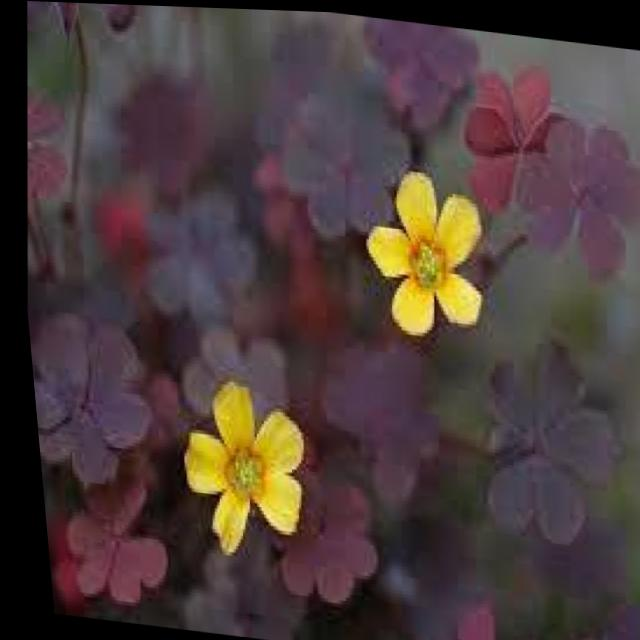Flower: (158, 372, 321, 562), (346, 157, 504, 347)
